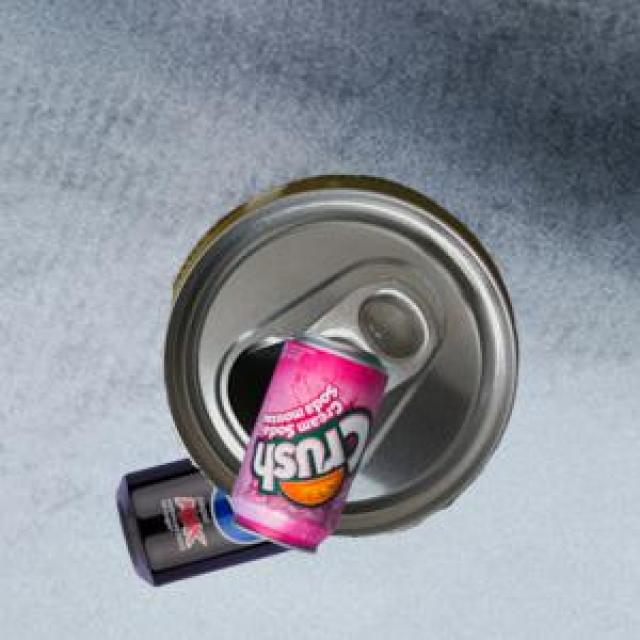logam: (159, 172, 515, 534), (229, 330, 385, 549), (114, 455, 289, 583)
